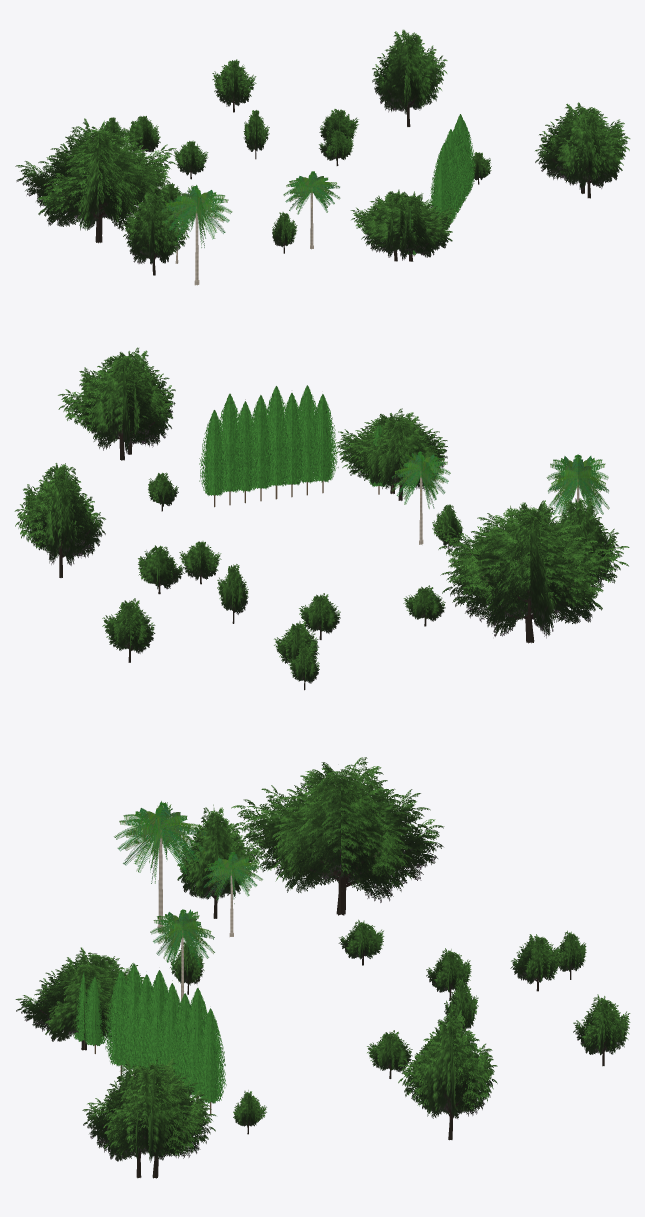
The model's file is arboles_parque.glb.
3 renders of one model, top to bottom at view 1: azimuth 30°, elevation 25°; view 2: azimuth 150°, elevation 25°; view 3: azimuth 270°, elevation 25°, orthographic. The views are drawn at different scales.
Parts seen in each view (by area): view 1: copa (×15), palma (×2), columnar (×4); view 2: copa (×17), columnar (×8), palma (×2); view 3: copa (×16), columnar (×9), palma (×3).
Boxes of the visible parts, <box> form: copa (×15): <box>15,29,630,275</box>; palma (×2): <box>162,171,340,285</box>; columnar (×4): <box>428,114,474,230</box>; copa (×17): <box>14,347,629,690</box>; columnar (×8): <box>199,385,338,507</box>; palma (×2): <box>391,450,609,544</box>; copa (×16): <box>15,757,630,1178</box>; columnar (×9): <box>80,963,226,1115</box>; palma (×3): <box>114,801,262,1002</box>.
Size of the model in its own units: 71.1 by 15.13 by 56.44.
Materials: 6 (6 with a texture image).
